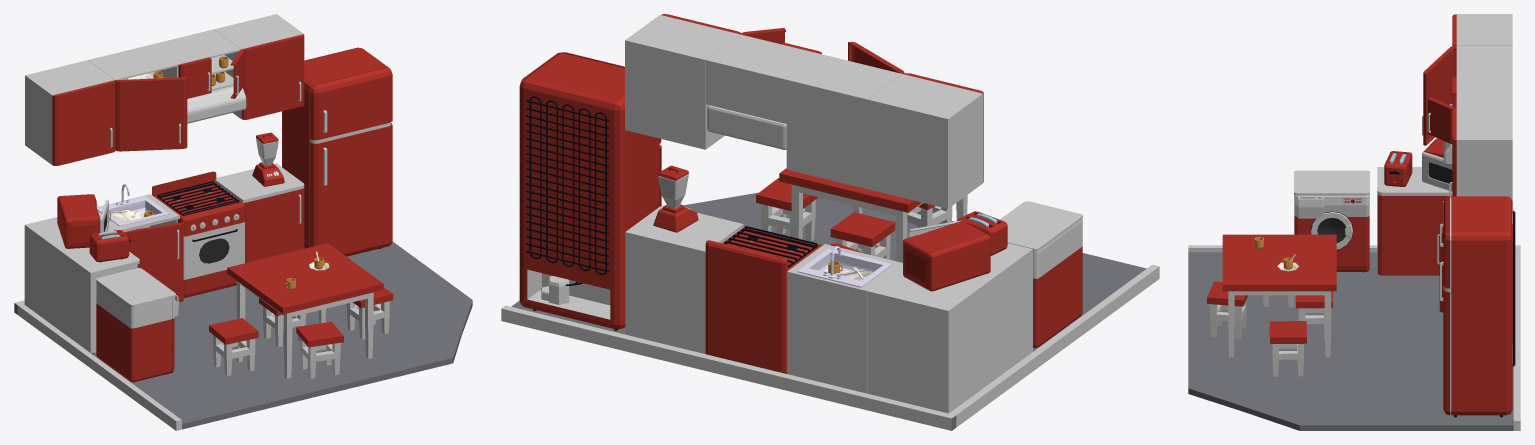
File: kitchen.fbx
3 renders of one model, left to right at view 1: azimuth 30°, elevation 25°; view 2: azimuth 150°, elevation 25°; view 3: azimuth 270°, elevation 25°, orthographic. The views are drawn at different scales.
Visible parts, largest first — view 1: Plane.002_Plane.001, Cube.091_Cube.119, Cube.157_Cube.185, Cube.088_Cube.116, Cube.133_Cube.161, Cylinder.055_Cylinder.073, Cube.092_Cube.120, Cube.138_Cube.166, Cube.095_Cube.123, Cube.126_Cube.154, Cube.140_Cube.168, Cube.137_Cube.165 (+19 smaller); view 2: Cylinder.055_Cylinder.073, Plane.002_Plane.001, Cube.141_Cube.169, Cube.137_Cube.165, Cube.095_Cube.123, Cube.128_Cube.156, Cube.130_Cube.158, Cube.139_Cube.167, Cube.132_Cube.160, Cube.088_Cube.116, Cube.134_Cube.162, Cube.126_Cube.154 (+10 smaller); view 3: Plane.002_Plane.001, Cylinder.055_Cylinder.073, Cube.157_Cube.185, Cube.127_Cube.155, Cube.139_Cube.167, Cube.088_Cube.116, Cube.134_Cube.162, Cube.137_Cube.165, Cube.132_Cube.160, Cube.133_Cube.161, Cube.158_Cube.186, Cube.159_Cube.187 (+11 smaller).
Part boxes in pixels (left/top/right/bottom): Plane.002_Plane.001: left=14, top=241, right=472, bottom=430; Cube.091_Cube.119: left=310, top=123, right=392, bottom=256; Cube.157_Cube.185: left=227, top=243, right=383, bottom=378; Cube.088_Cube.116: left=96, top=268, right=175, bottom=382; Cube.133_Cube.161: left=115, top=77, right=187, bottom=151; Cylinder.055_Cylinder.073: left=282, top=47, right=391, bottom=248; Cube.092_Cube.120: left=310, top=68, right=392, bottom=140; Cube.138_Cube.166: left=52, top=80, right=115, bottom=165; Cube.095_Cube.123: left=152, top=171, right=244, bottom=297; Cube.126_Cube.154: left=54, top=244, right=139, bottom=354; Cube.140_Cube.168: left=241, top=34, right=304, bottom=119; Cube.137_Cube.165: left=25, top=60, right=114, bottom=164; Cylinder.055_Cylinder.073: left=519, top=53, right=659, bottom=330; Plane.002_Plane.001: left=501, top=192, right=1159, bottom=430; Cube.141_Cube.169: left=868, top=266, right=986, bottom=413; Cube.137_Cube.165: left=867, top=74, right=982, bottom=208; Cube.095_Cube.123: left=705, top=226, right=822, bottom=373; Cube.128_Cube.156: left=787, top=244, right=902, bottom=393; Cube.130_Cube.158: left=625, top=205, right=743, bottom=354; Cube.139_Cube.167: left=625, top=15, right=740, bottom=149; Cube.132_Cube.160: left=786, top=54, right=901, bottom=188; Cube.088_Cube.116: left=1000, top=201, right=1082, bottom=347; Cube.134_Cube.162: left=706, top=34, right=820, bottom=123; Cube.126_Cube.154: left=970, top=243, right=1032, bottom=385; Plane.002_Plane.001: left=1188, top=245, right=1520, bottom=430; Cylinder.055_Cylinder.073: left=1444, top=196, right=1515, bottom=417; Cube.157_Cube.185: left=1222, top=234, right=1336, bottom=357; Cube.127_Cube.155: left=1377, top=194, right=1451, bottom=275; Cube.139_Cube.167: left=1456, top=108, right=1512, bottom=201; Cube.088_Cube.116: left=1294, top=170, right=1369, bottom=272; Cube.134_Cube.162: left=1456, top=77, right=1512, bottom=108; Cube.137_Cube.165: left=1456, top=14, right=1512, bottom=45; Cube.132_Cube.160: left=1456, top=45, right=1512, bottom=76; Cube.133_Cube.161: left=1422, top=45, right=1456, bottom=145; Cube.158_Cube.186: left=1269, top=321, right=1306, bottom=376; Cube.159_Cube.187: left=1207, top=281, right=1247, bottom=338.
Size of the model in its own units: 774 by 502 by 619.
